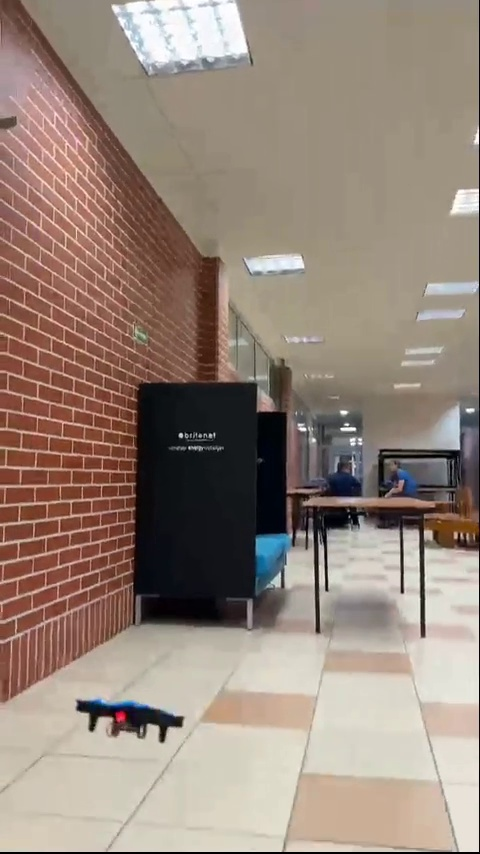drone: (79, 694, 182, 744)
no vest: (374, 457, 417, 503), (329, 457, 363, 501)
